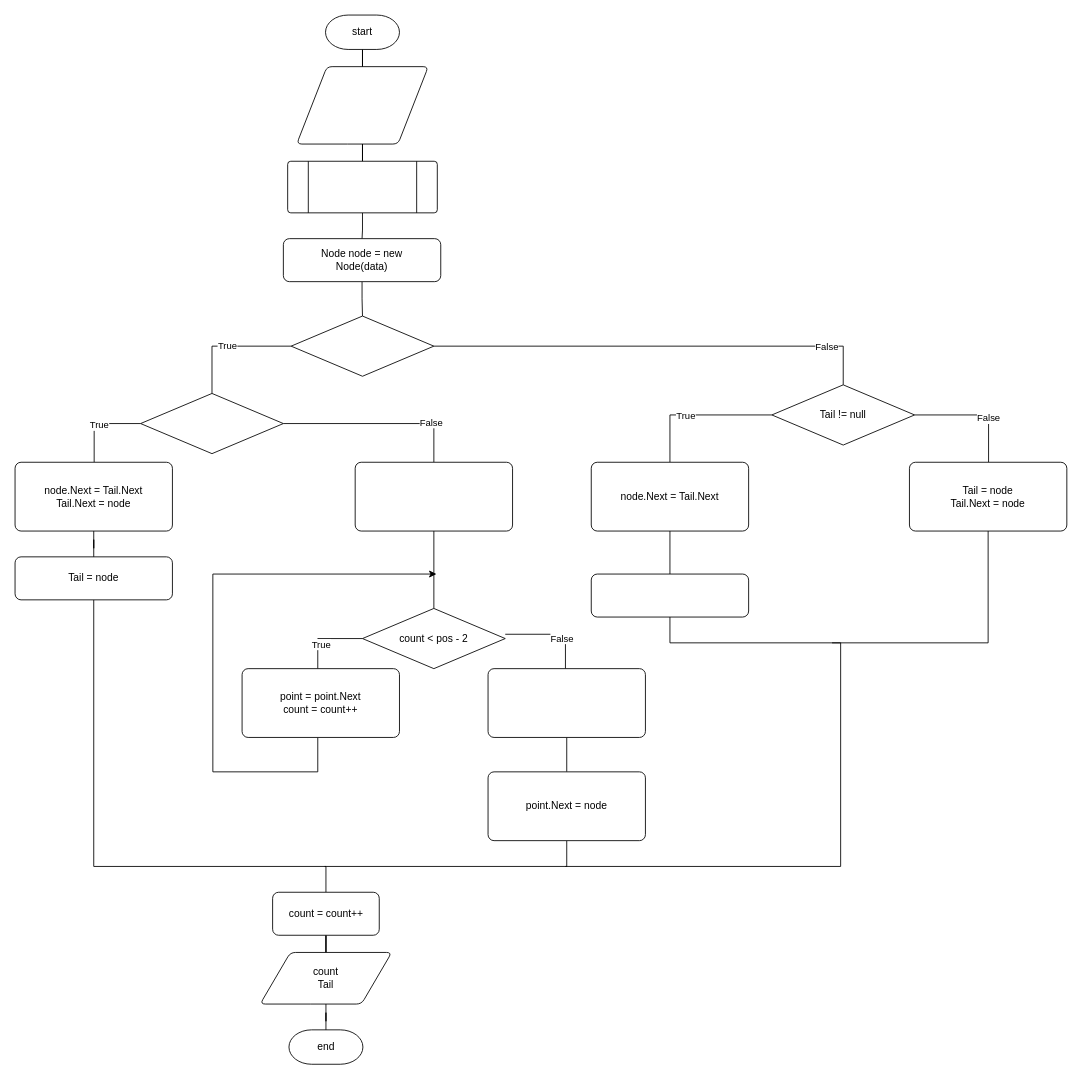
The diagram is 1082 pixels wide and 1079 high, and some of its shapes have lost their labels. Here are the shapes that lost their labels. From the top down, the centre of each, then its label:
At [362,105]: "data є Z, tail є Node, count є N".
At [362,186]: "pos = FindPos".
At [362,345]: "pos <= count++".
At [211,423]: "position == count++".
At [433,496]: "Node point = Tail.Next counter = 0".
At [669,595]: "Tail.Next = node".
At [566,702]: "node.Next = point.Next".
